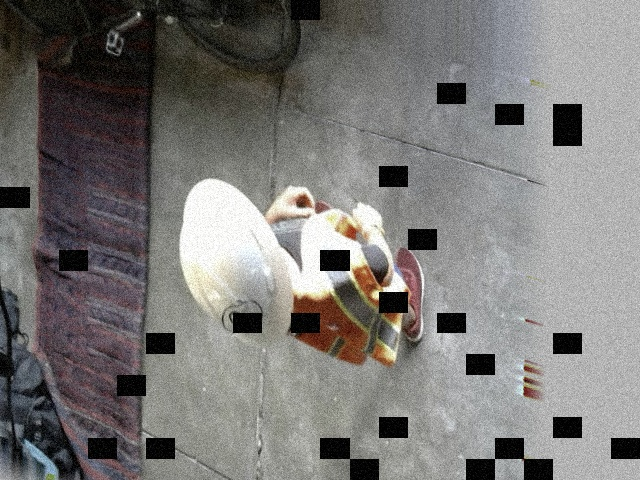eight: (218, 287, 263, 343)
